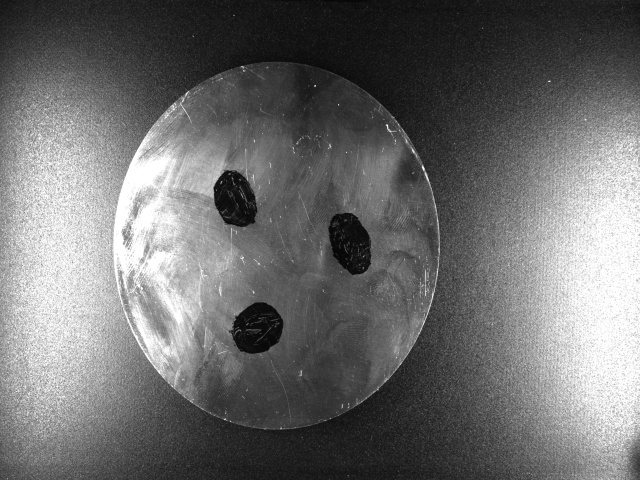zang_wu: (226, 297, 291, 357), (207, 167, 261, 229), (329, 210, 374, 276)
